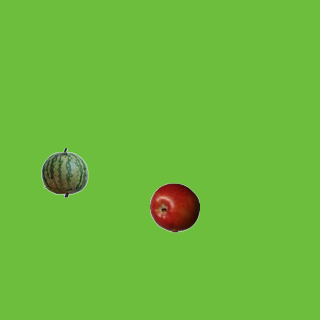Apple Braeburn: (149, 182, 199, 232)
Watermelon: (39, 147, 89, 197)
